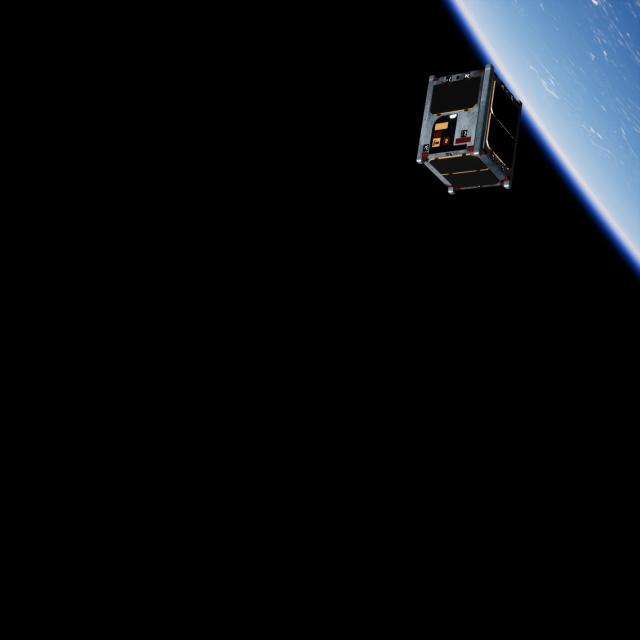medium_debris: (412, 62, 529, 210)
